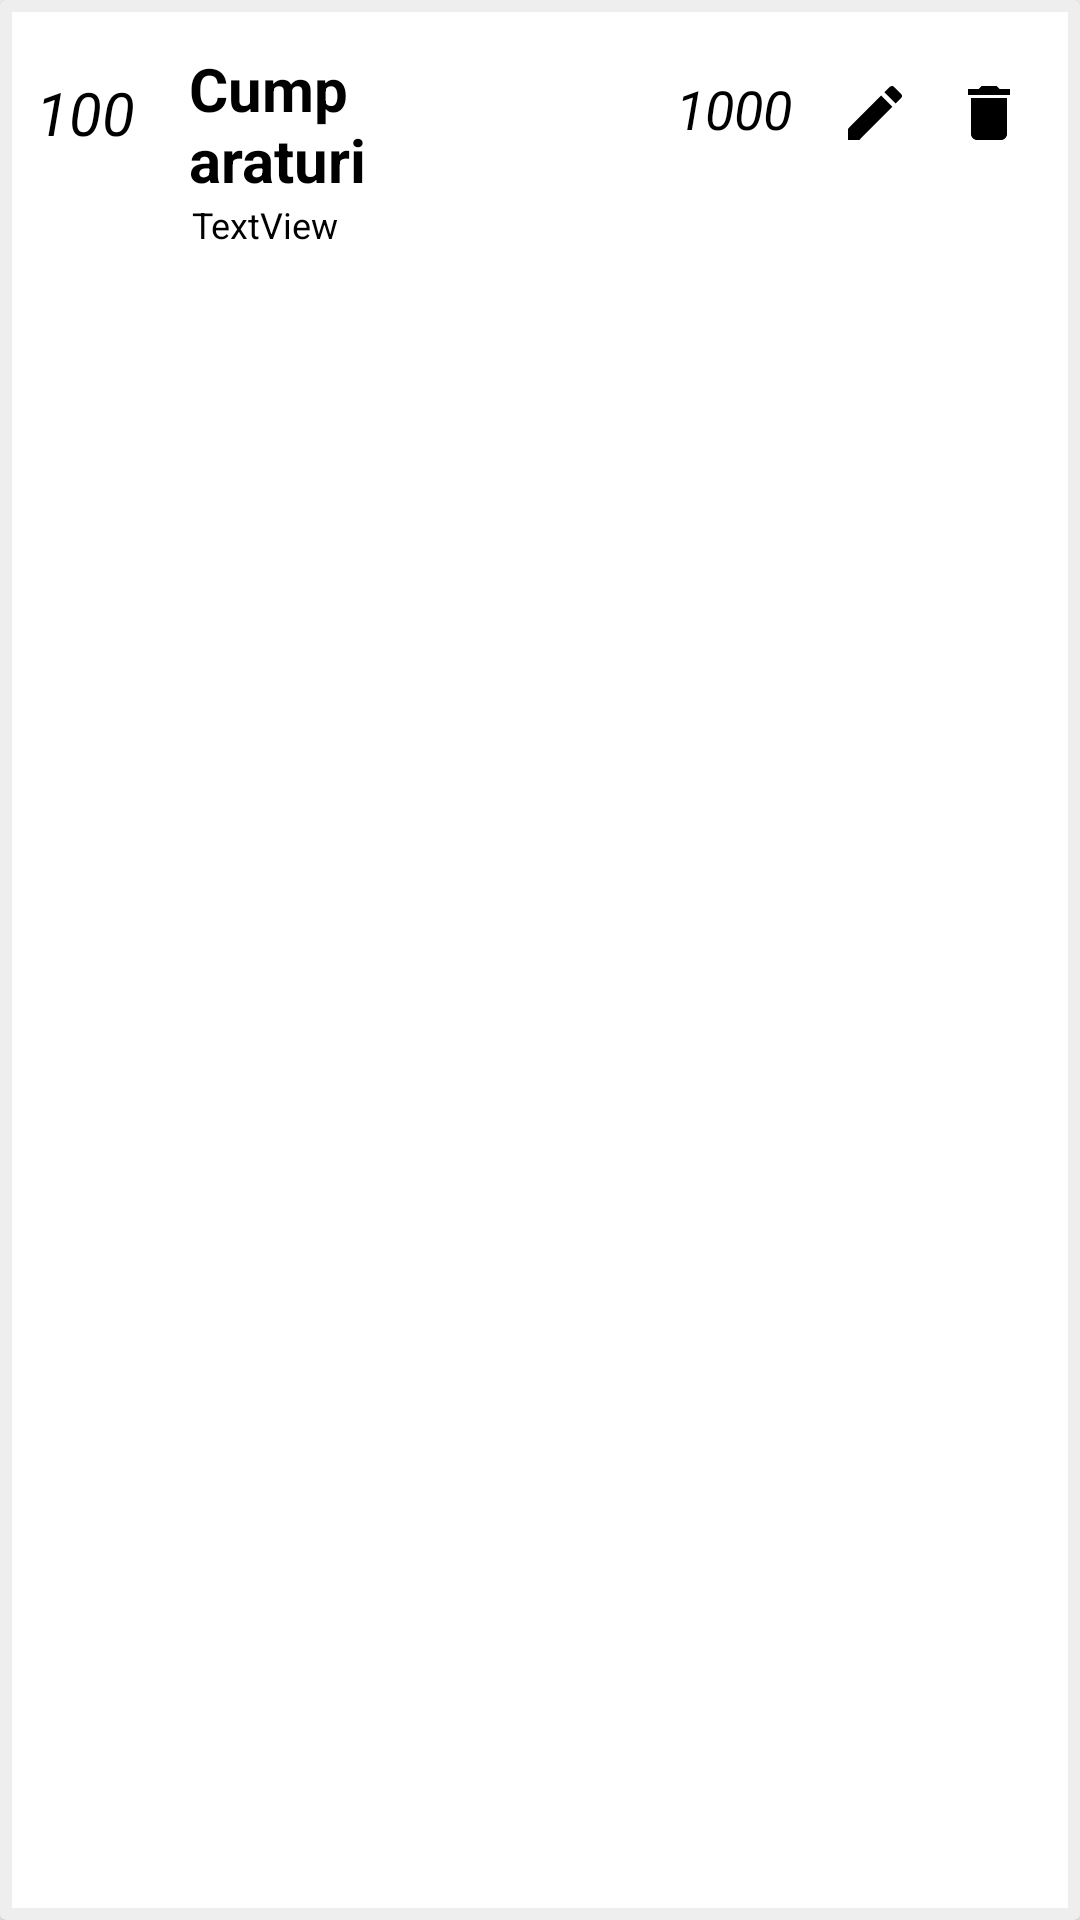

Named icons in this screenshot (1080w x 1920h) and their bounding boxes, (x1, y1, x2, y2):
delete: (968, 86, 1010, 140)
edit: (848, 86, 902, 140)
